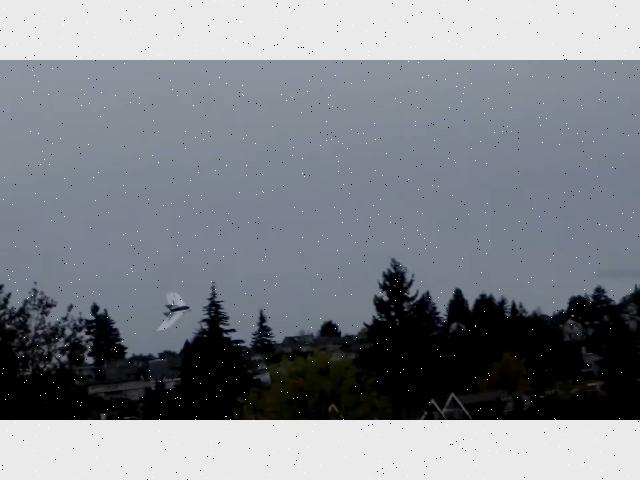Anti-Drone: (158, 293, 192, 328)
